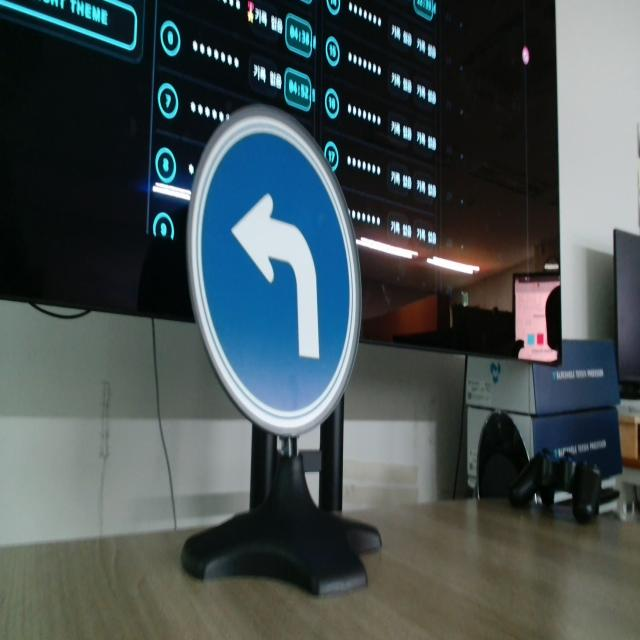left_direction: (181, 102, 366, 446)
